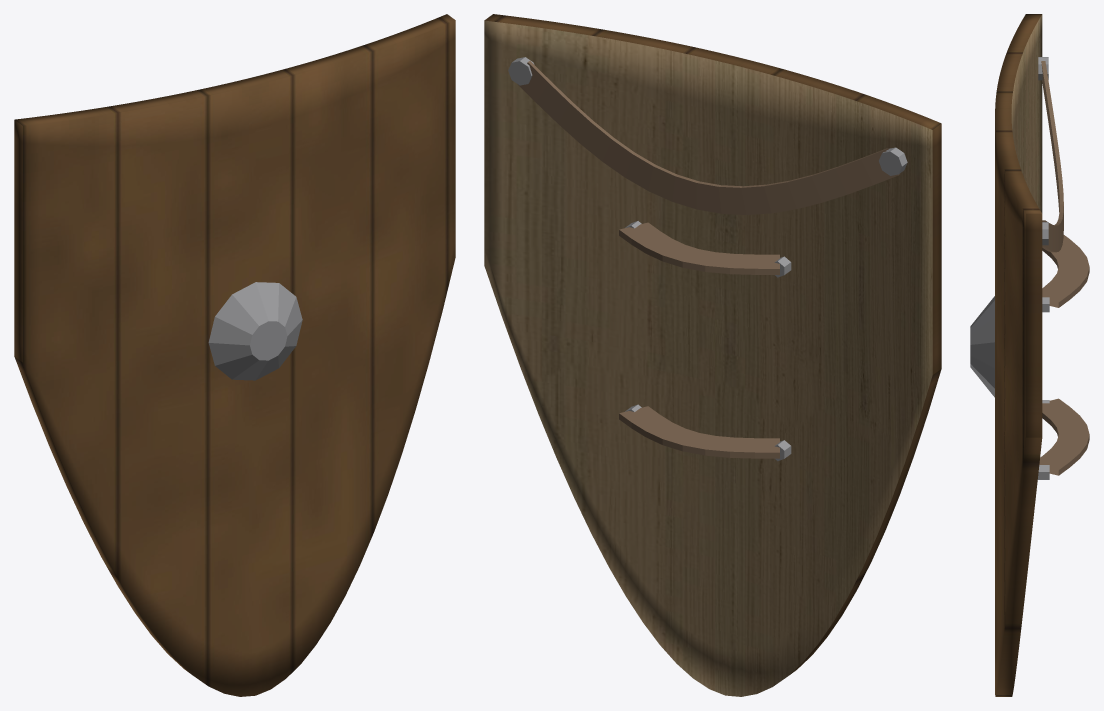
File: heater_plain_p1_w0.glb
The picture shows the model from 3 angles, left to right: view 1: azimuth 30°, elevation 25°; view 2: azimuth 150°, elevation 25°; view 3: azimuth 270°, elevation 25°; orthographic projection. The views are drawn at different scales.
Visible parts, largest first — view 1: heater_plain_p1_w0; view 2: heater_plain_p1_w0; view 3: heater_plain_p1_w0.
Boxes of the visible parts, x1,y1,x2,y2 form: heater_plain_p1_w0: (14,14,455,696); heater_plain_p1_w0: (484,14,941,696); heater_plain_p1_w0: (970,14,1089,696).
Bounding box in the file's own units: 0.46 × 0.62 × 0.116.
Materials: 4 (2 with a texture image).
